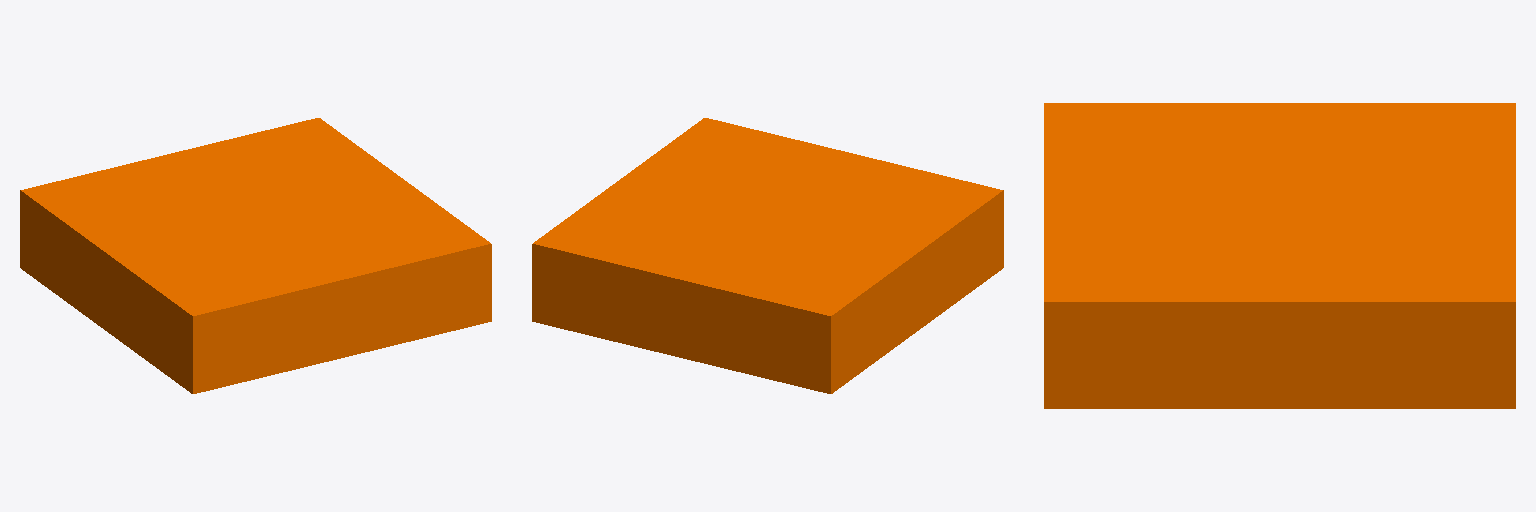
robot.urdf — tray:
<?xml version="1.0"?>
<robot name="tray">
  <link name="tray_base_link">
    <contact>
      <lateral_friction value="0.4"/>
      <spinning_friction value="10.0"/>
    </contact>
    <inertial>
      <origin rpy="0 0 0" xyz="0 0 0"/>
      <mass value="1"/>
      <inertia ixx="1" ixy="0" ixz="0" iyy="1" iyz="0" izz="1"/>
    </inertial>
    <visual>
      <origin rpy="0 0 0" xyz="0.0 0.0 0.0"/>
      <geometry>
        <box size="0.2 0.2 0.05"/>
      </geometry>
      <material name="blockmat">
        <color rgba="1.0 0.5 0.0 1"/>
      </material>
    </visual>
    <collision>
      <origin rpy="0 0 0" xyz="0.0 0.0 0.0"/>
      <geometry>
        <box size="0.2 0.2 0.05"/>
      </geometry>
    </collision>
  </link>
</robot>

--- Facts derived from the render (not from the file) ---
Views: 3 orthographic renders of the robot side by side, from view 1: azimuth 30°, elevation 25°; view 2: azimuth 150°, elevation 25°; view 3: azimuth 270°, elevation 25°.
Model tray with 1 links and 0 joints (none), rooted at tray_base_link, posed every joint at zero.
Links seen in each view (by area): view 1: tray_base_link; view 2: tray_base_link; view 3: tray_base_link.
Link boxes in pixels (box(x1,y1,x2,y2)): tray_base_link: box(20, 118, 491, 393); tray_base_link: box(532, 118, 1003, 393); tray_base_link: box(1044, 103, 1515, 408).
Bounding box of the posed robot: 0.2 × 0.2 × 0.05 m (x, y, z).
Geometry: primitives only (box / cylinder / sphere), no mesh files.
